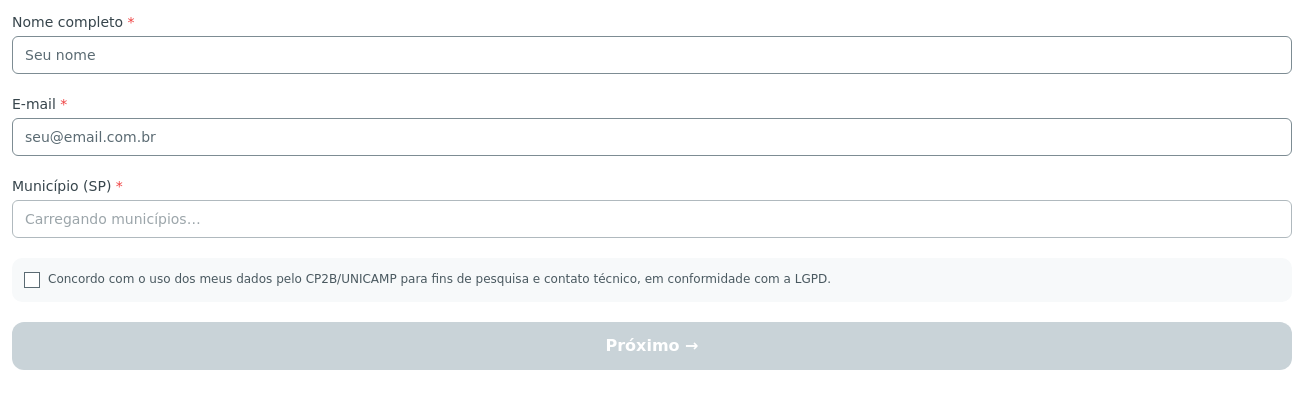
StepIdentificacao › explains a malformed email as the user types
The width and height of the screenshot is (1304, 407).
Type "ana@" into the field labelled "E-mail *" at coordinates (652, 137), box [12,118,1292,156]
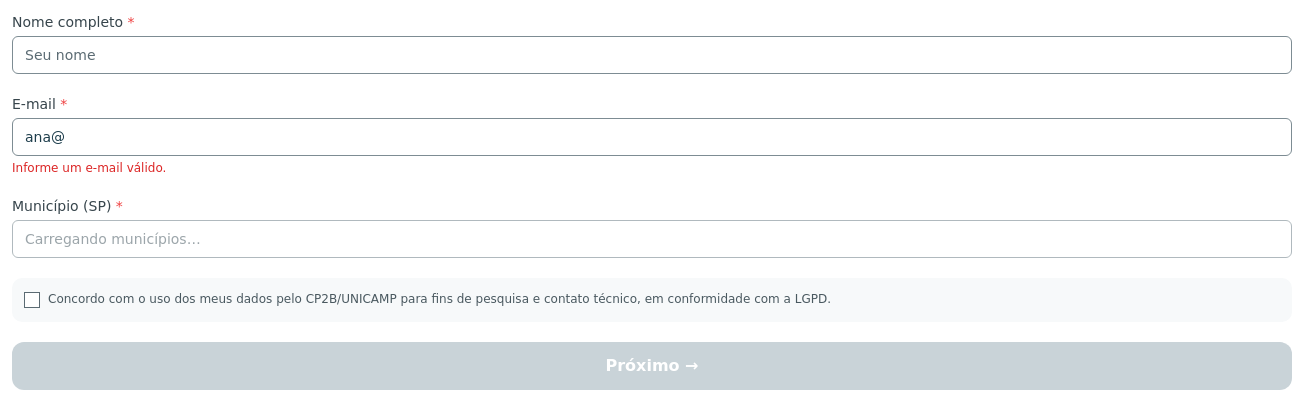
Result: the text "Informe um e-mail válido." is shown at [12,161,166,175]
Replace the text in the field labelled "E-mail *" with "ana@unicamp.br" at coordinates (652, 137), box [12,118,1292,156]
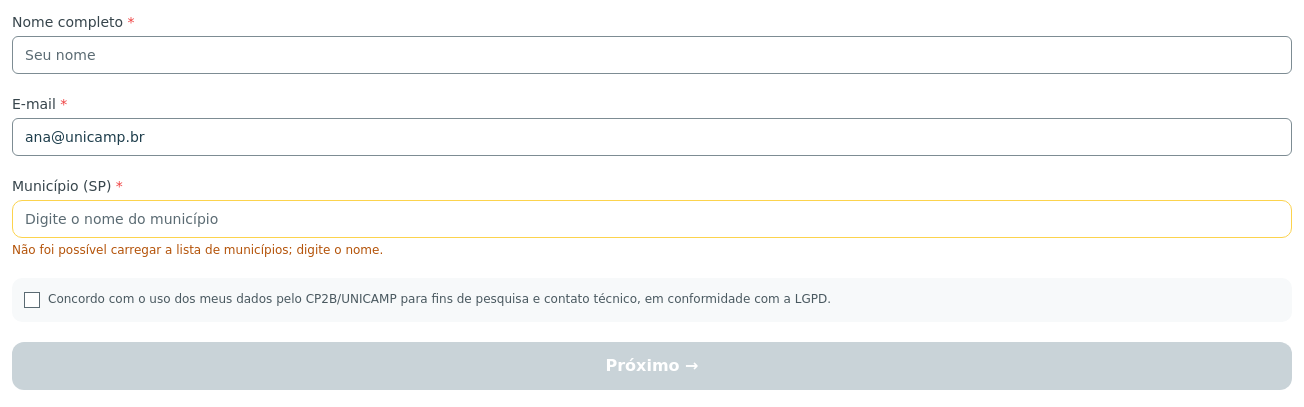
Result: the text "Informe um e-mail válido." is gone
Result: the text "Não foi possível carregar" is shown at [12,243,383,257]
